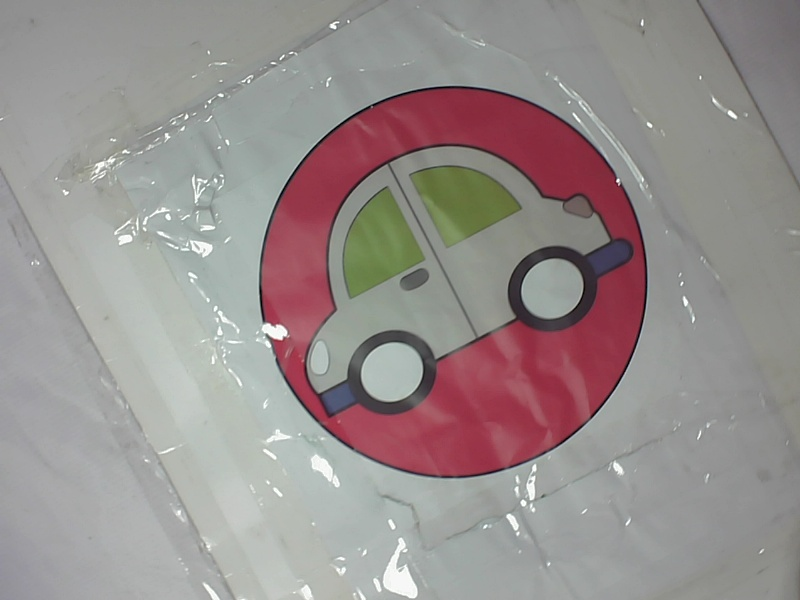areaC: (254, 89, 654, 491)
